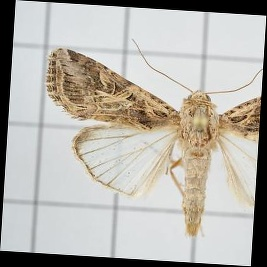Spodoptera litura: (42, 39, 259, 237)
